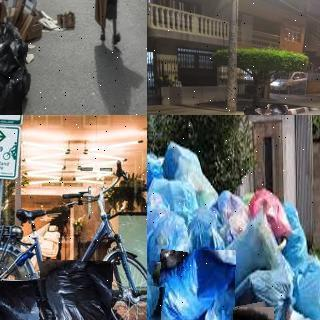Garbage: (160, 249, 235, 320), (38, 260, 112, 320), (219, 266, 294, 320), (147, 209, 196, 289), (0, 278, 66, 320), (206, 185, 253, 242), (161, 139, 206, 192), (285, 255, 320, 320), (249, 189, 291, 236), (0, 37, 25, 115), (267, 104, 288, 115), (243, 107, 264, 115), (255, 107, 274, 115)
